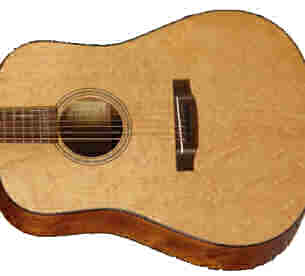guitar: (1, 8, 304, 273)
